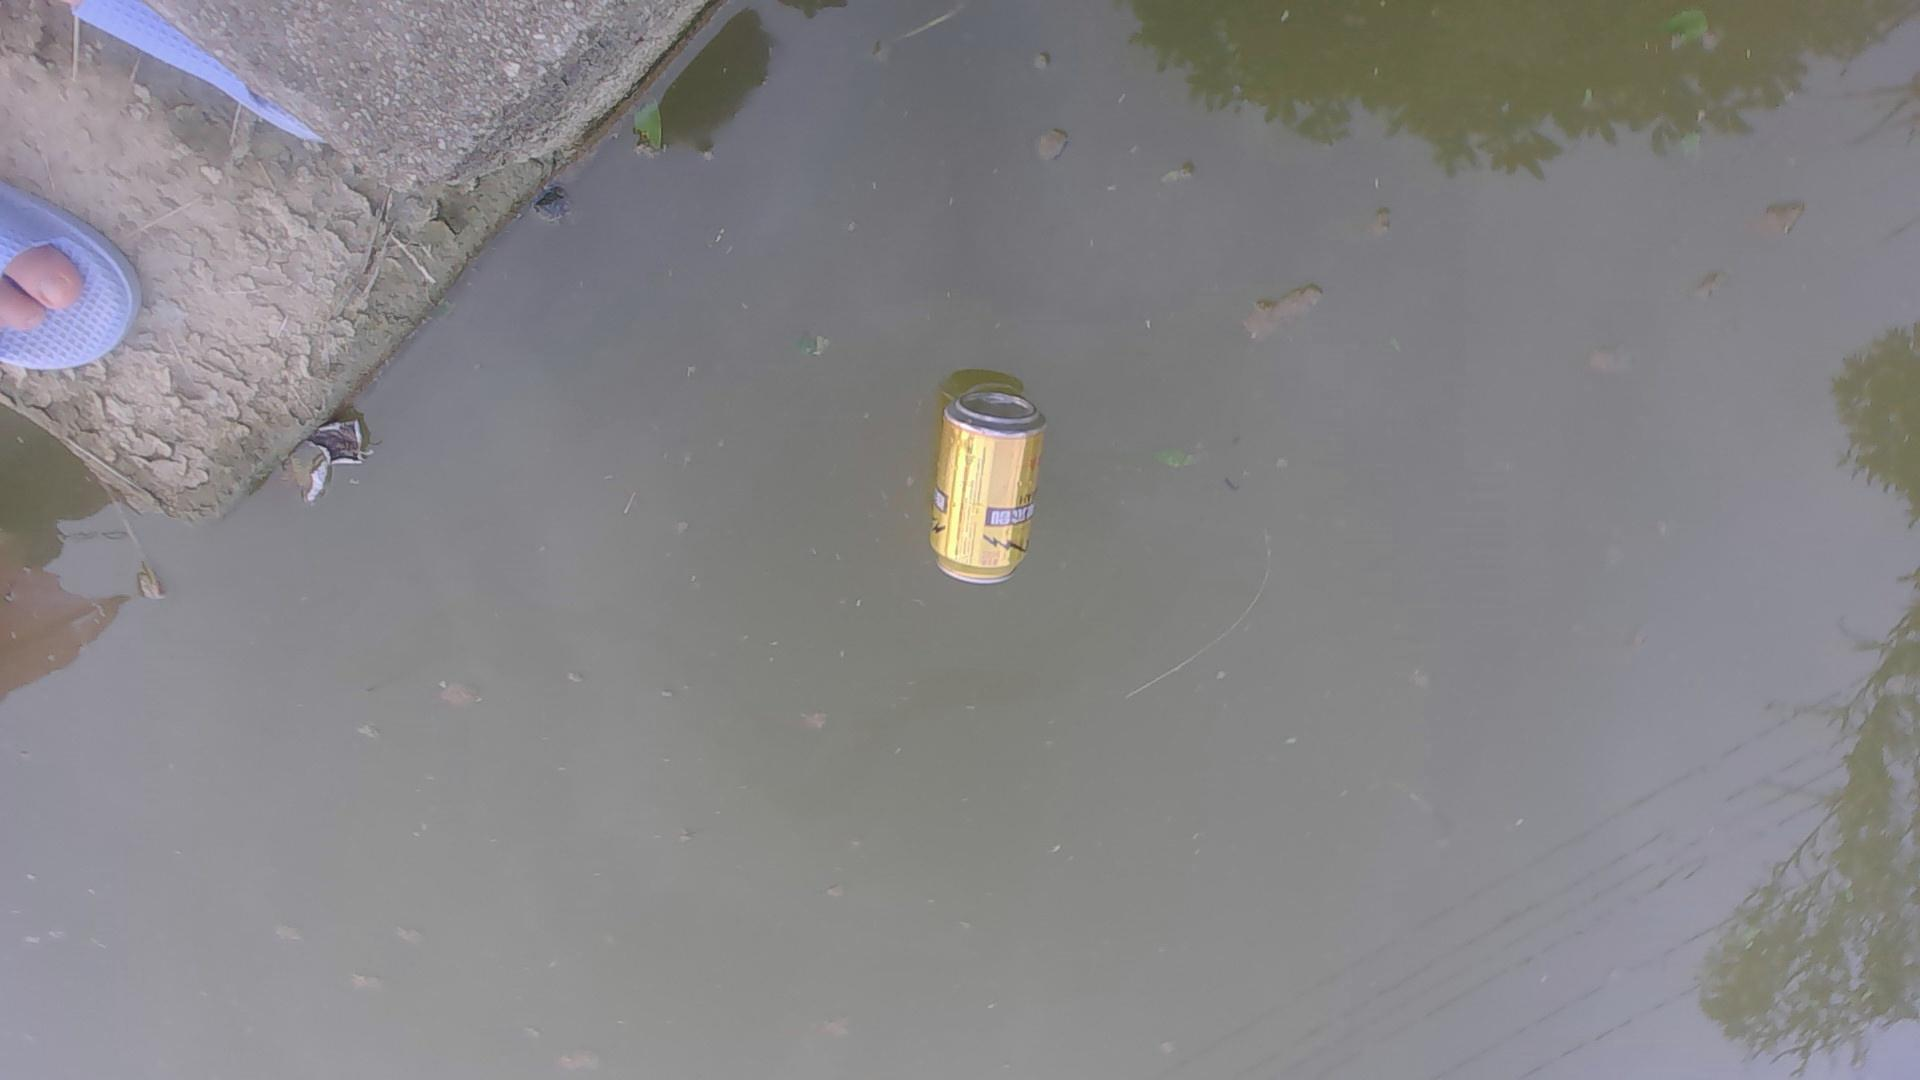Metal: (924, 376, 1047, 591)
